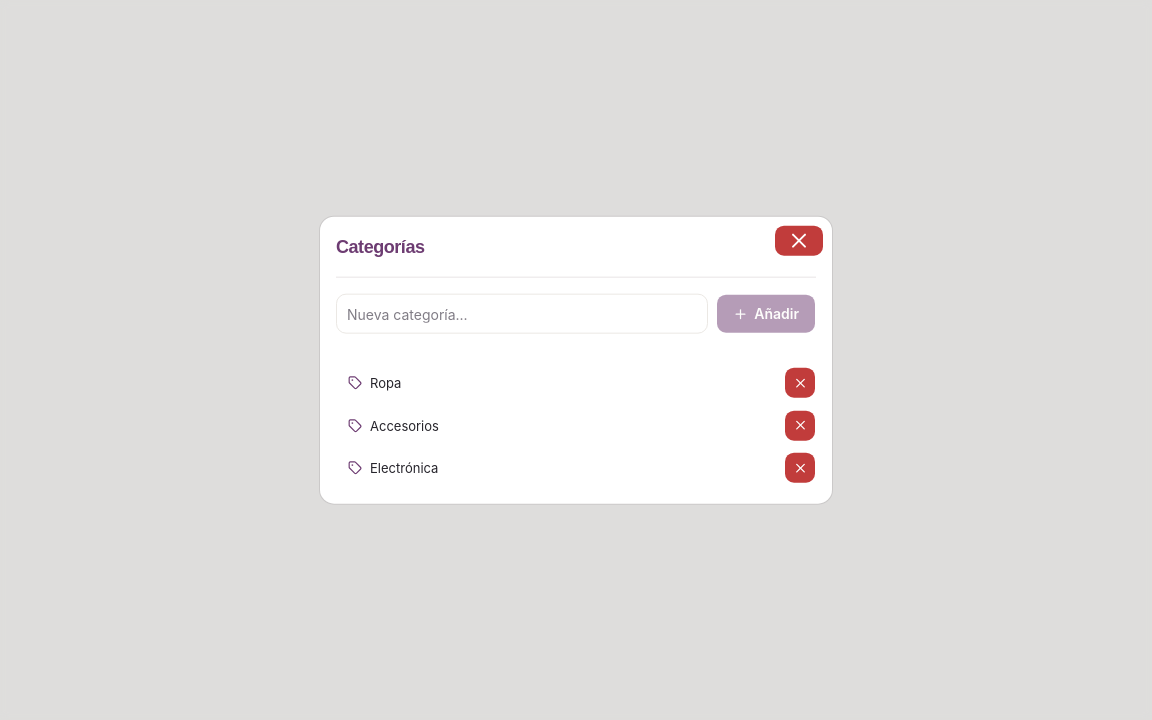
Test case: CategoryManagerModal › Creación de categoría › debería habilitar el botón cuando hay un nombre
Type "Nueva" into the field with placeholder "Nueva categoría..." at (522, 314), box [336,294,708,334]
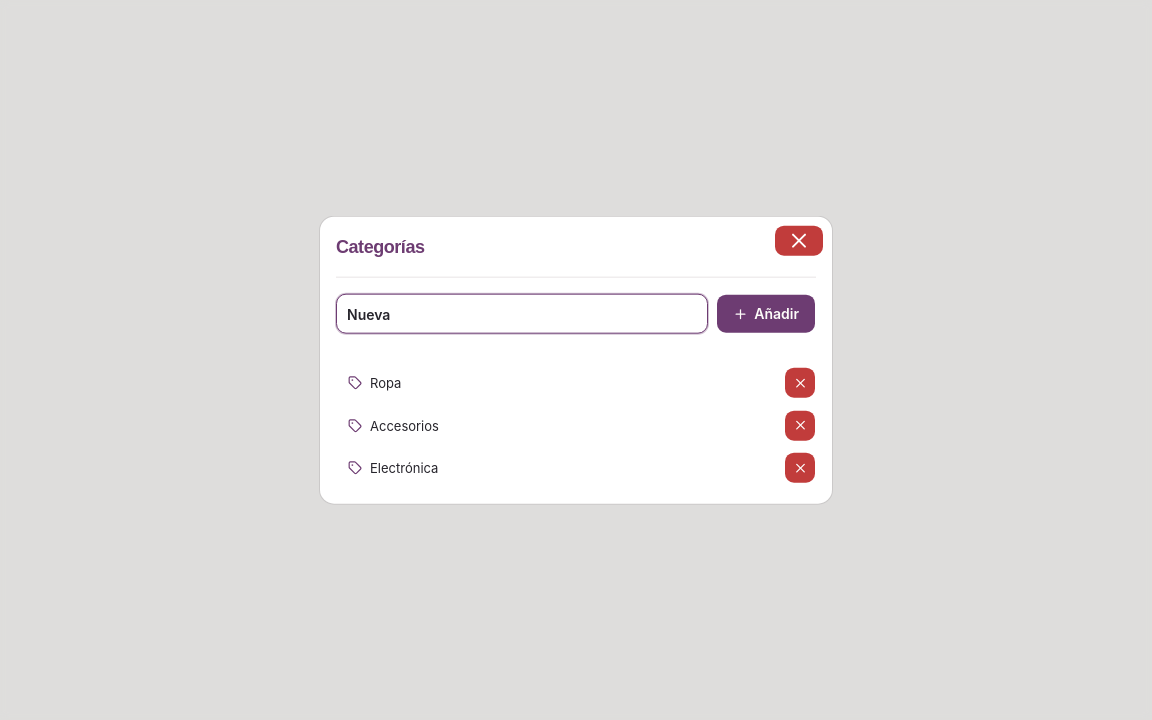
Expected: the button "Añadir" is enabled, [716,294,816,334]
